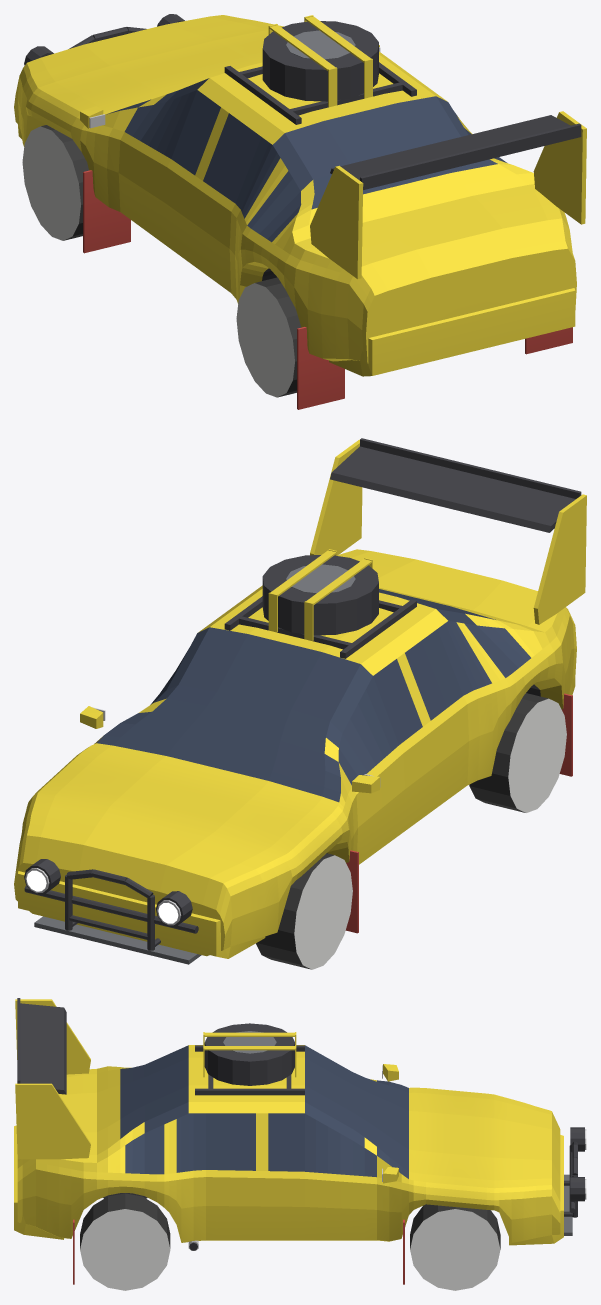
Rendered from degaulle.glb.
The picture shows the model from 3 angles, top to bottom: view 1: azimuth 30°, elevation 25°; view 2: azimuth 150°, elevation 25°; view 3: azimuth 270°, elevation 25°; orthographic projection. The views are drawn at different scales.
Visible parts, largest first — view 1: Body, Spoiler, RoofSpare, Bumper_R, Wheel_RL, Wheel_FL, MudFlaps, BullBar; view 2: Body, Spoiler, RoofSpare, Wheel_RL, Bumper_F, Wheel_FL, BullBar, MudFlaps; view 3: Body, Spoiler, Wheel_RR, Wheel_FR, RoofSpare, BullBar, Bumper_F, Bumper_R.
Boxes of the visible parts, box(x1,y1,x2,y2) form: Body: box(14, 15, 576, 363); Spoiler: box(310, 111, 586, 279); RoofSpare: box(224, 15, 416, 124); Bumper_R: box(329, 288, 575, 376); Wheel_RL: box(236, 277, 301, 397); Wheel_FL: box(22, 125, 88, 240); MudFlaps: box(83, 170, 572, 409); BullBar: box(24, 14, 184, 65); Body: box(14, 549, 576, 956); Spoiler: box(310, 438, 586, 624); RoofSpare: box(224, 549, 416, 658); Wheel_RL: box(469, 693, 566, 812); Bumper_F: box(18, 871, 265, 964); Wheel_FL: box(256, 853, 352, 969); BullBar: box(24, 859, 198, 950); MudFlaps: box(345, 693, 572, 933); Body: box(17, 1045, 560, 1242); Spoiler: box(15, 998, 90, 1159); Wheel_RR: box(80, 1193, 170, 1290); Wheel_FR: box(410, 1204, 500, 1290); RoofSpare: box(195, 1023, 304, 1095); BullBar: box(564, 1127, 586, 1217); Bumper_F: box(509, 1135, 572, 1245); Bumper_R: box(14, 1125, 63, 1239).
Bounding box in the file's own units: 2.12 × 1.81 × 4.69.
